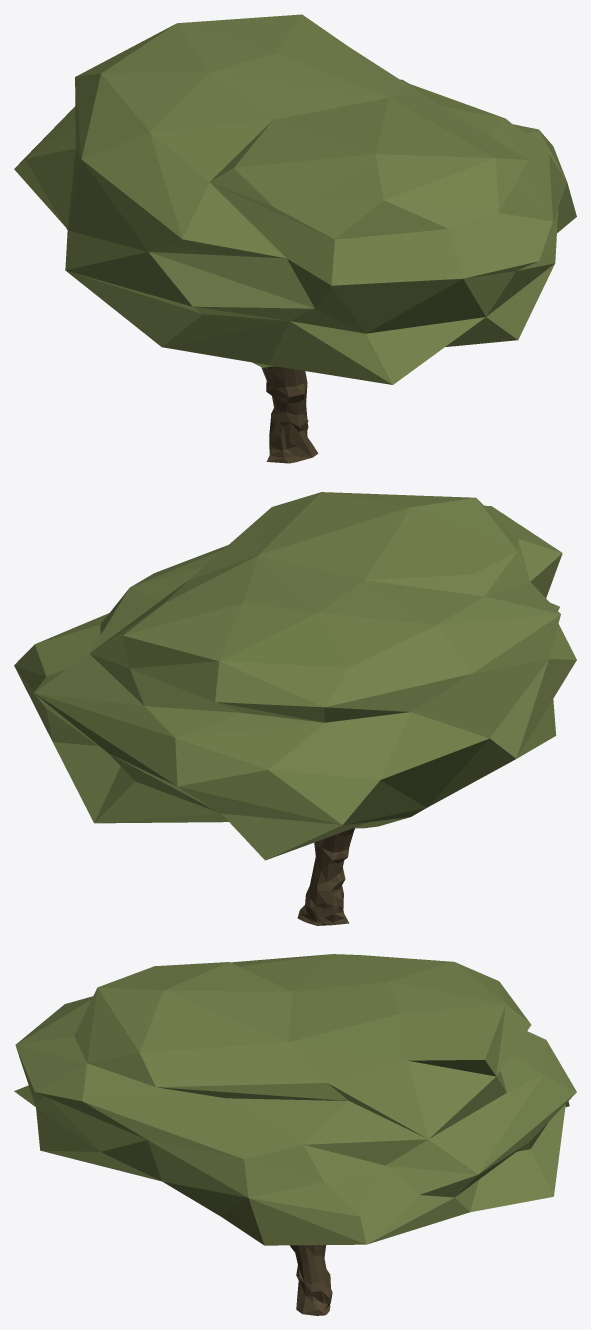
The model's file is SM_bush_small_02.fbx.
The picture shows the model from 3 angles, top to bottom: view 1: azimuth 30°, elevation 25°; view 2: azimuth 150°, elevation 25°; view 3: azimuth 270°, elevation 25°; orthographic projection. The views are drawn at different scales.
Visible parts, largest first — view 1: bush_small_02; view 2: bush_small_02; view 3: bush_small_02.
Part boxes in pixels (box(x1,y1,x2,y2)): bush_small_02: box(14, 14, 576, 463); bush_small_02: box(14, 492, 576, 925); bush_small_02: box(14, 954, 576, 1315).
Size of the model in its own units: 805 by 556 by 901.
